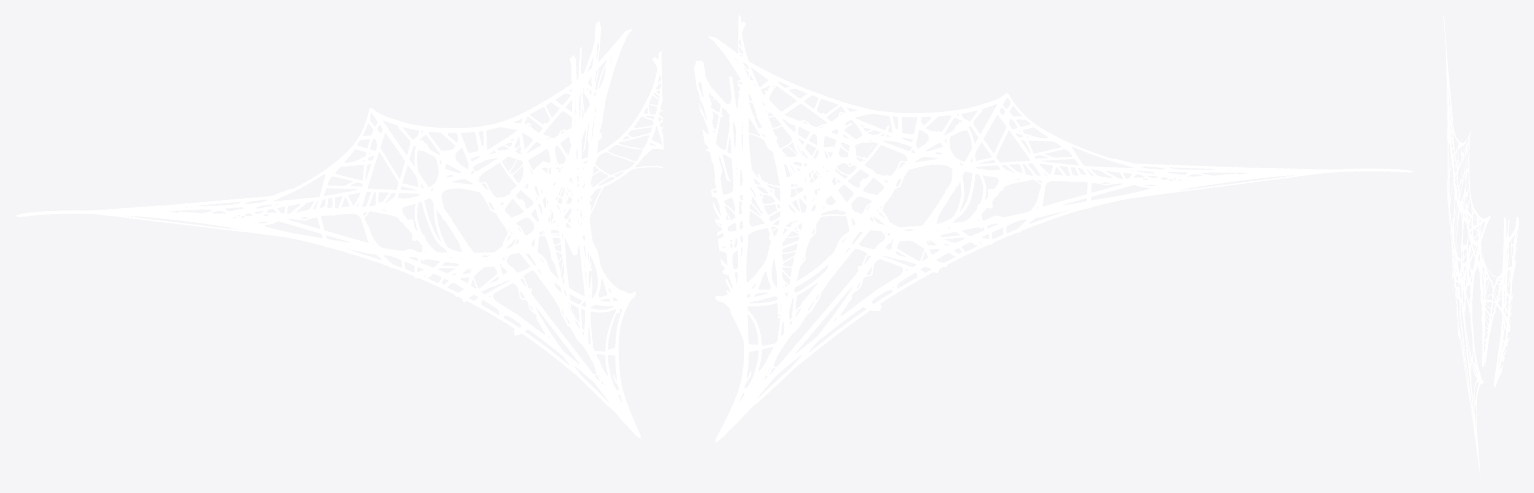
3 renders of one model, left to right at view 1: azimuth 30°, elevation 25°; view 2: azimuth 150°, elevation 25°; view 3: azimuth 270°, elevation 25°, orthographic. The views are drawn at different scales.
Visible parts, largest first — view 1: SM_Cob_Web_03_LOD0; view 2: SM_Cob_Web_03_LOD0; view 3: SM_Cob_Web_03_LOD0.
Boxes of the visible parts, x1,y1,x2,y2 form: SM_Cob_Web_03_LOD0: [15, 21, 663, 438]; SM_Cob_Web_03_LOD0: [694, 14, 1414, 442]; SM_Cob_Web_03_LOD0: [1443, 15, 1518, 473].
Size of the model in its own units: 4 by 2.52 by 0.6345.
1 material, 1 textured.
